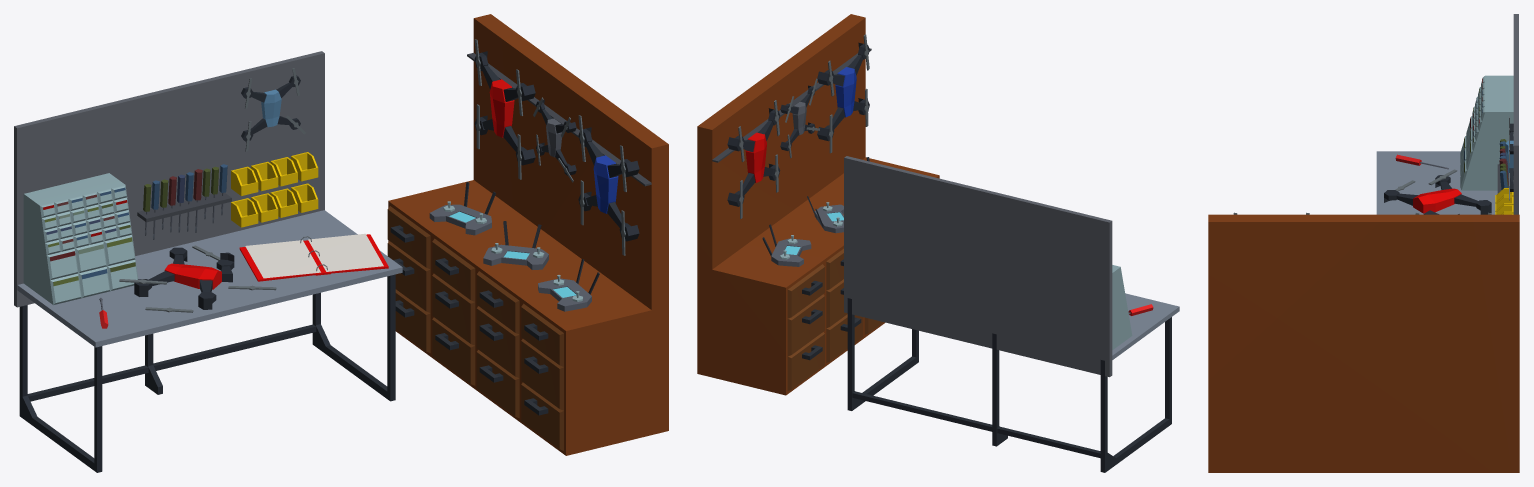
Rendered from g_o_DroneWorkshop.fbx.
The picture shows the model from 3 angles, left to right: view 1: azimuth 30°, elevation 25°; view 2: azimuth 150°, elevation 25°; view 3: azimuth 270°, elevation 25°; orthographic projection. The views are drawn at different scales.
Visible parts, largest first — view 1: g_o_DroneWorkshop; view 2: g_o_DroneWorkshop; view 3: g_o_DroneWorkshop.
Boxes of the visible parts, bbox=[...] form: g_o_DroneWorkshop: bbox=[14, 14, 668, 472]; g_o_DroneWorkshop: bbox=[697, 14, 1179, 472]; g_o_DroneWorkshop: bbox=[1208, 14, 1519, 472].
Size of the model in its own units: 2.79 by 1.63 by 1.8.
